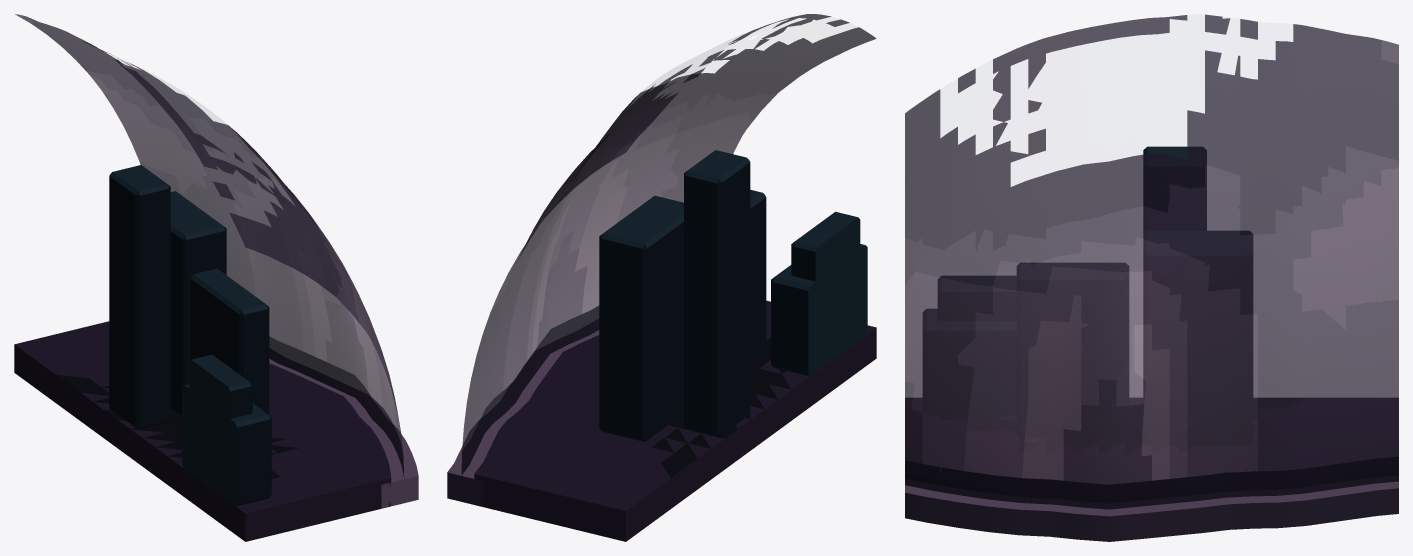
The model's file is purple_dome_mr.glb.
3 views of the same model, side by side, from view 1: azimuth 30°, elevation 25°; view 2: azimuth 150°, elevation 25°; view 3: azimuth 270°, elevation 25° (orthographic). The views are drawn at different scales.
Parts seen in each view (by area): view 1: purple_dome_mr_glassshell, purple_dome_mr_floor, purple_dome_mr_bd_tower148, purple_dome_mr_bd_tower107, purple_dome_mr_bd_tower117, purple_dome_mr_bd_tower154, purple_dome_mr_collar, purple_dome_mr_bd_tower107_top; view 2: purple_dome_mr_glassshell, purple_dome_mr_floor, purple_dome_mr_bd_tower154, purple_dome_mr_bd_tower148, purple_dome_mr_bd_tower107, purple_dome_mr_bd_tower107_top, purple_dome_mr_collar, purple_dome_mr_bd_tower117; view 3: purple_dome_mr_glassshell, purple_dome_mr_floor, purple_dome_mr_bd_tower154, purple_dome_mr_bd_tower117, purple_dome_mr_collar, purple_dome_mr_bd_tower107, purple_dome_mr_bd_tower148, purple_dome_mr_bd_tower107_top.
Part boxes in pixels (x1,y1,x2,y2): purple_dome_mr_glassshell: (15, 14, 404, 477); purple_dome_mr_floor: (14, 321, 391, 541); purple_dome_mr_bd_tower148: (109, 165, 170, 429); purple_dome_mr_bd_tower107: (182, 384, 271, 506); purple_dome_mr_bd_tower117: (190, 268, 269, 414); purple_dome_mr_bd_tower154: (170, 191, 226, 415); purple_dome_mr_collar: (269, 350, 418, 508); purple_dome_mr_bd_tower107_top: (189, 354, 252, 420); purple_dome_mr_glassshell: (461, 14, 876, 474); purple_dome_mr_floor: (474, 300, 876, 541); purple_dome_mr_bd_tower154: (599, 195, 683, 441); purple_dome_mr_bd_tower148: (684, 150, 750, 436); purple_dome_mr_bd_tower107: (771, 244, 867, 376); purple_dome_mr_bd_tower107_top: (791, 211, 860, 281); purple_dome_mr_collar: (447, 320, 599, 506); purple_dome_mr_bd_tower117: (750, 189, 766, 366); purple_dome_mr_glassshell: (905, 14, 1398, 509); purple_dome_mr_floor: (905, 398, 1398, 502); purple_dome_mr_bd_tower154: (1143, 231, 1252, 445); purple_dome_mr_bd_tower117: (1017, 263, 1128, 436); purple_dome_mr_collar: (905, 476, 1398, 541); purple_dome_mr_bd_tower107: (923, 309, 1016, 414); purple_dome_mr_bd_tower148: (1143, 146, 1206, 233); purple_dome_mr_bd_tower107_top: (938, 276, 1016, 320).
Size of the model in its own units: 15.28 by 25.89 by 27.98.
